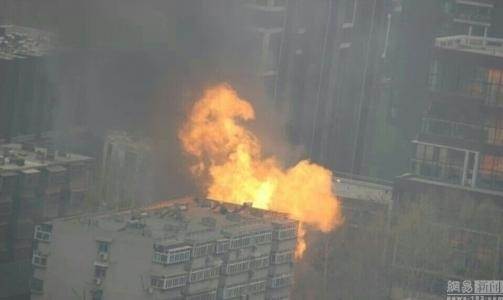fire: (179, 79, 345, 244)
